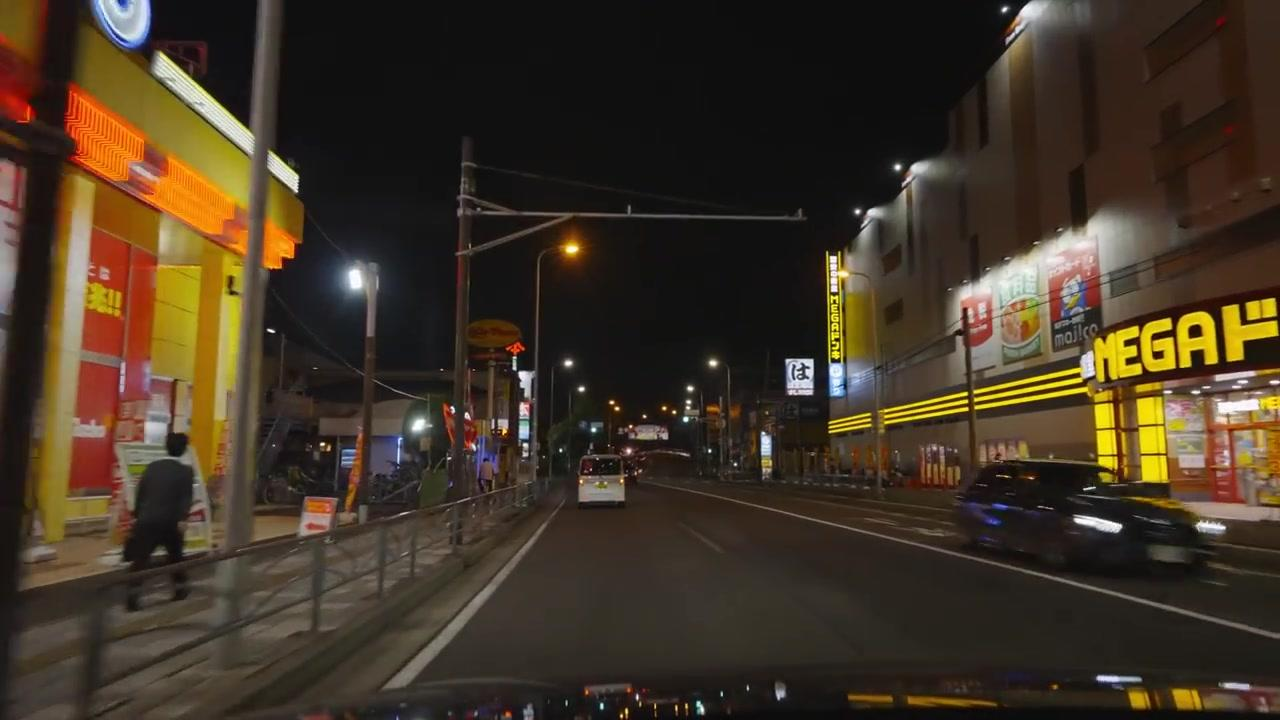bus: (578, 453, 627, 507)
car: (954, 458, 1226, 580), (578, 453, 627, 508), (623, 464, 640, 483)
person: (122, 432, 196, 610), (477, 455, 495, 495)
